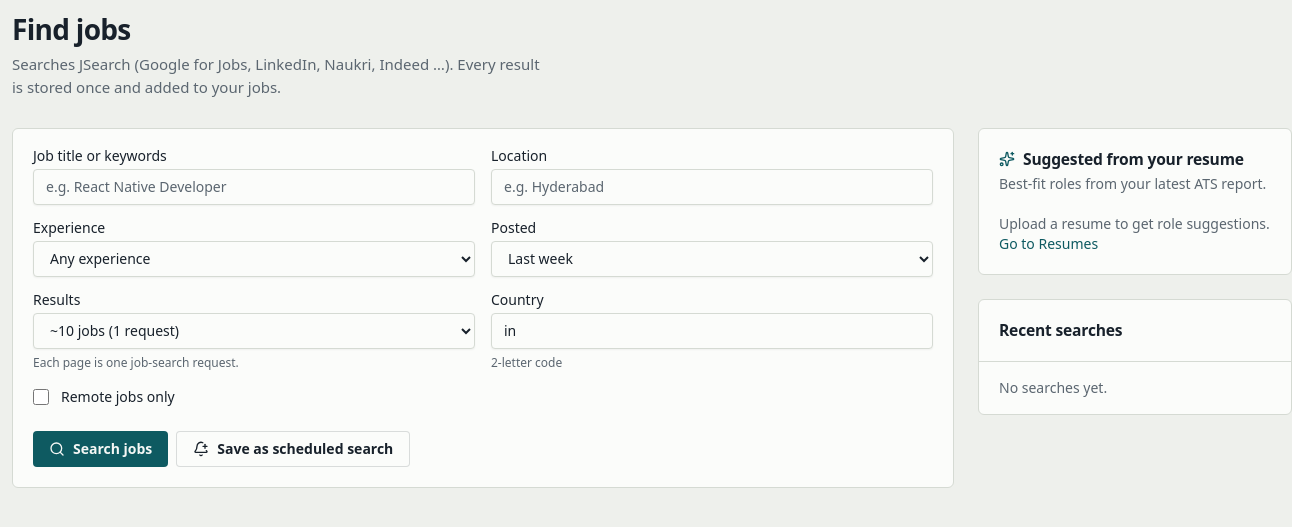
Test: JobSearchPage › validates keywords and shows the resume hint
Expected: the text "Upload a resume to get role suggestions. Go to Resumes" is shown, [999,214,1271,254]
Type "x" into the field labelled "Job title or keywords". click: coordinates (254, 186)
box: [33,168,475,204]
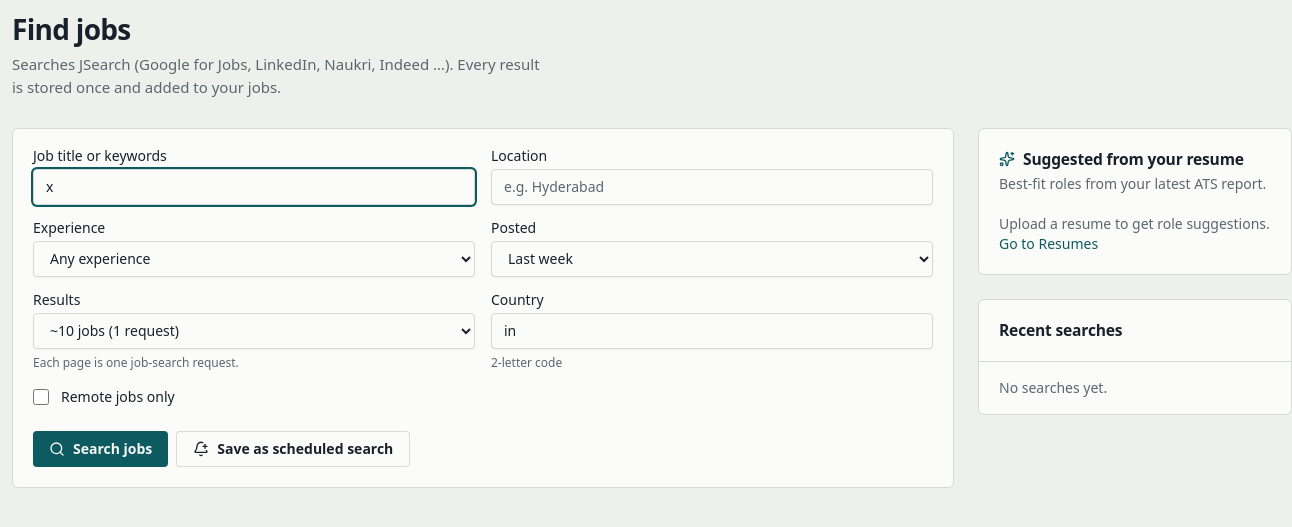
Click the button "Search jobs". click: coordinates (101, 448)
box: [33,430,168,466]
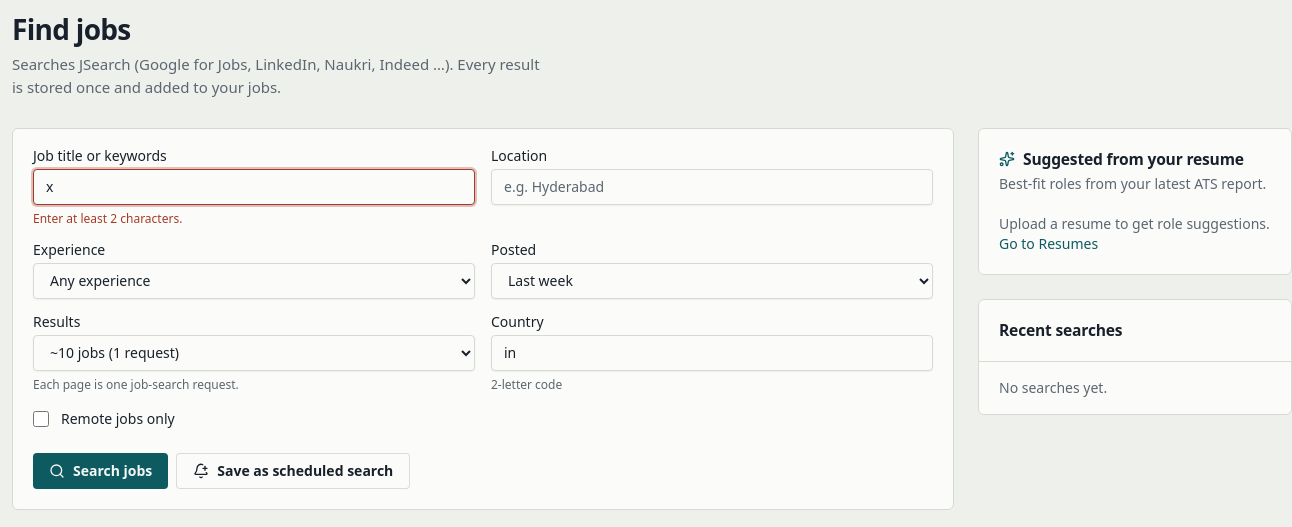
Expected: the text "Enter at least 2 characters." is shown, [33,210,182,226]
